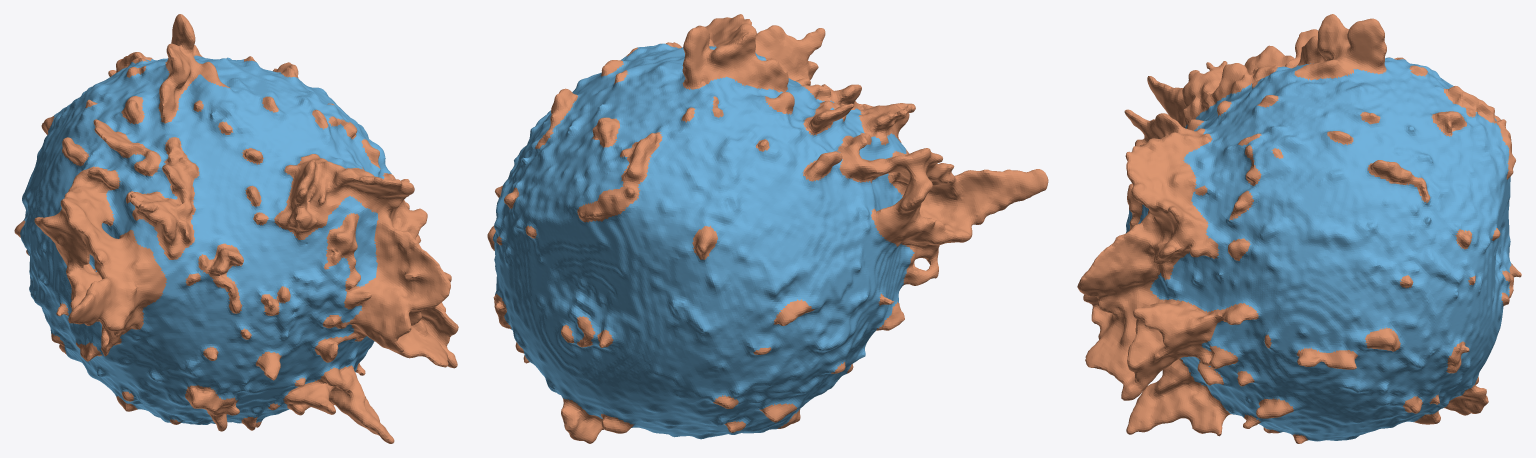
The picture shows the model from 3 angles, left to right: view 1: azimuth 30°, elevation 25°; view 2: azimuth 150°, elevation 25°; view 3: azimuth 270°, elevation 25°; orthographic projection. The views are drawn at different scales.
Size of the model in its own units: 182 by 165 by 168.
